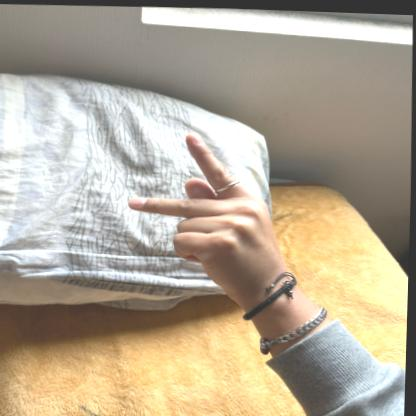K: (122, 125, 282, 298)
